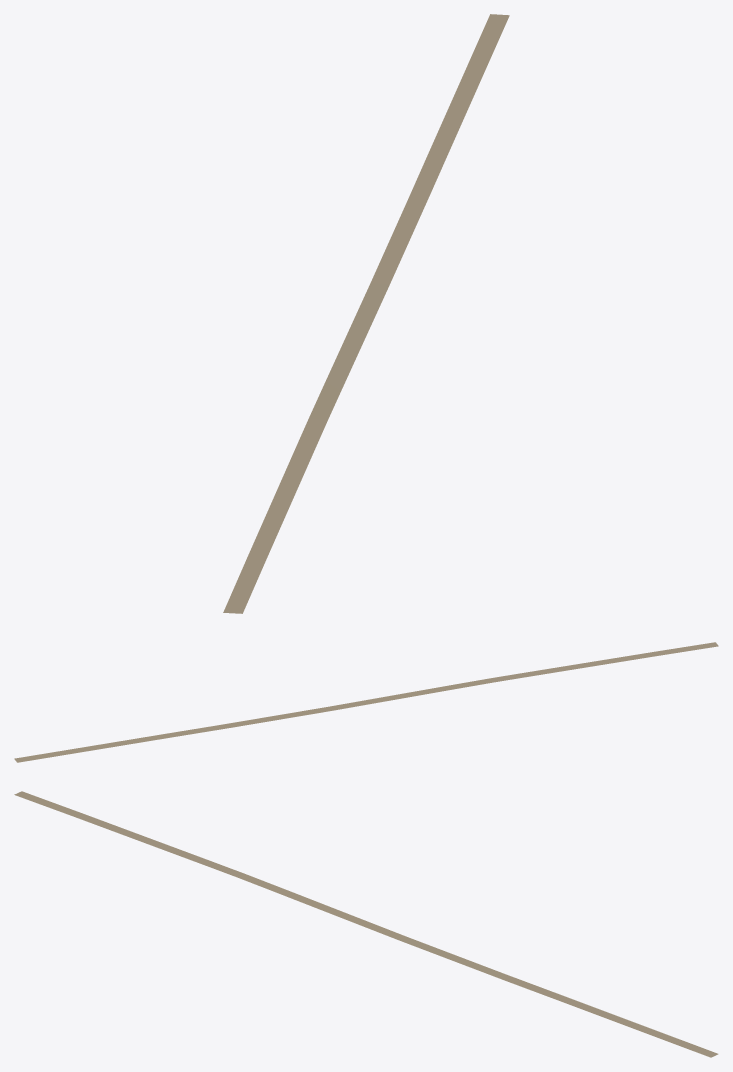
File: farm_-7_2_track.glb
3 views of the same model, one above another, from view 1: azimuth 30°, elevation 25°; view 2: azimuth 150°, elevation 25°; view 3: azimuth 270°, elevation 25° (orthographic). The views are drawn at different scales.
Visible parts, largest first — view 1: geometry_0; view 2: geometry_0; view 3: geometry_0.
Boxes of the visible parts, left/top/right/bottom form: geometry_0: left=223, top=14, right=509, bottom=613; geometry_0: left=14, top=642, right=718, bottom=762; geometry_0: left=14, top=791, right=718, bottom=1057.
Bounding box in the file's own units: 161 × 3.88 × 189.
